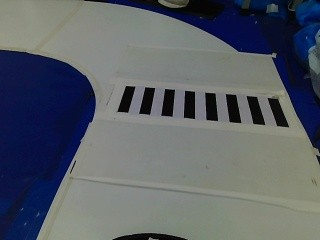crosswalk: (109, 80, 294, 132)
